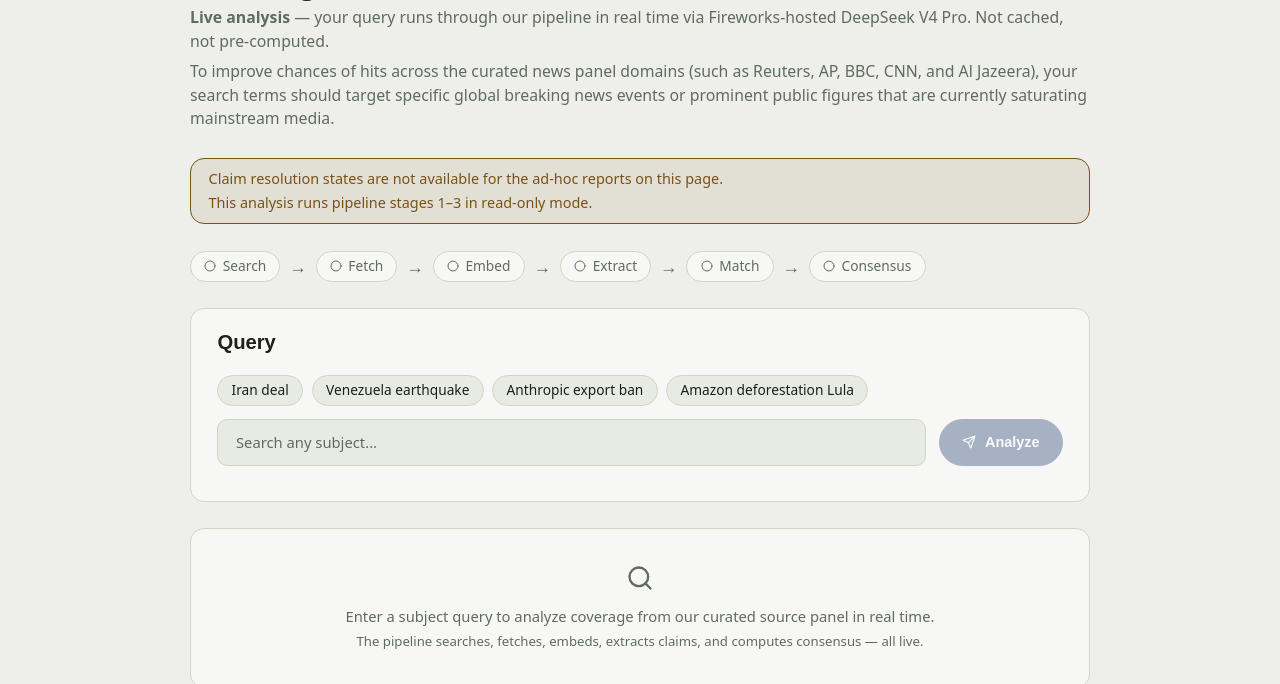
Scenario: Investigate Page › streams SSE events and renders articles + consensus + slider
Type "Iran deal" into the field with placeholder "Search any subject..." at (572, 442), box left=217, top=419, right=926, bottom=466
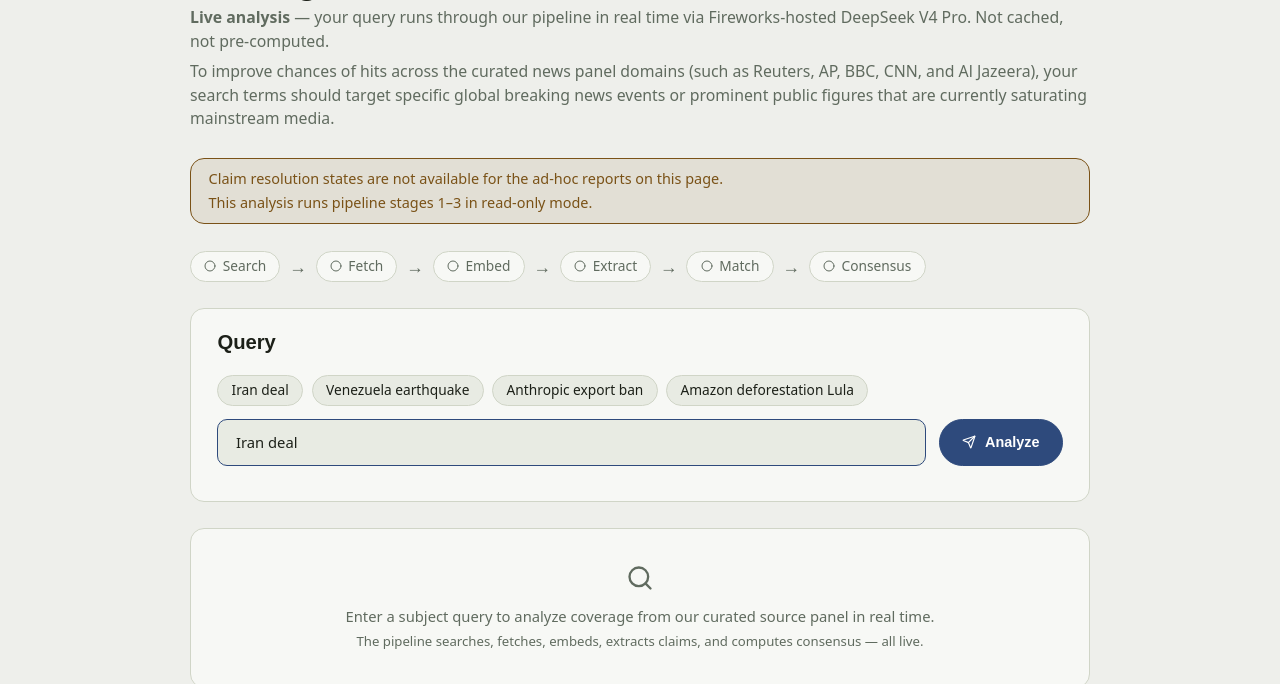
Click the button "Analyze" at (1001, 442), box left=939, top=419, right=1063, bottom=466
(page scrolled)
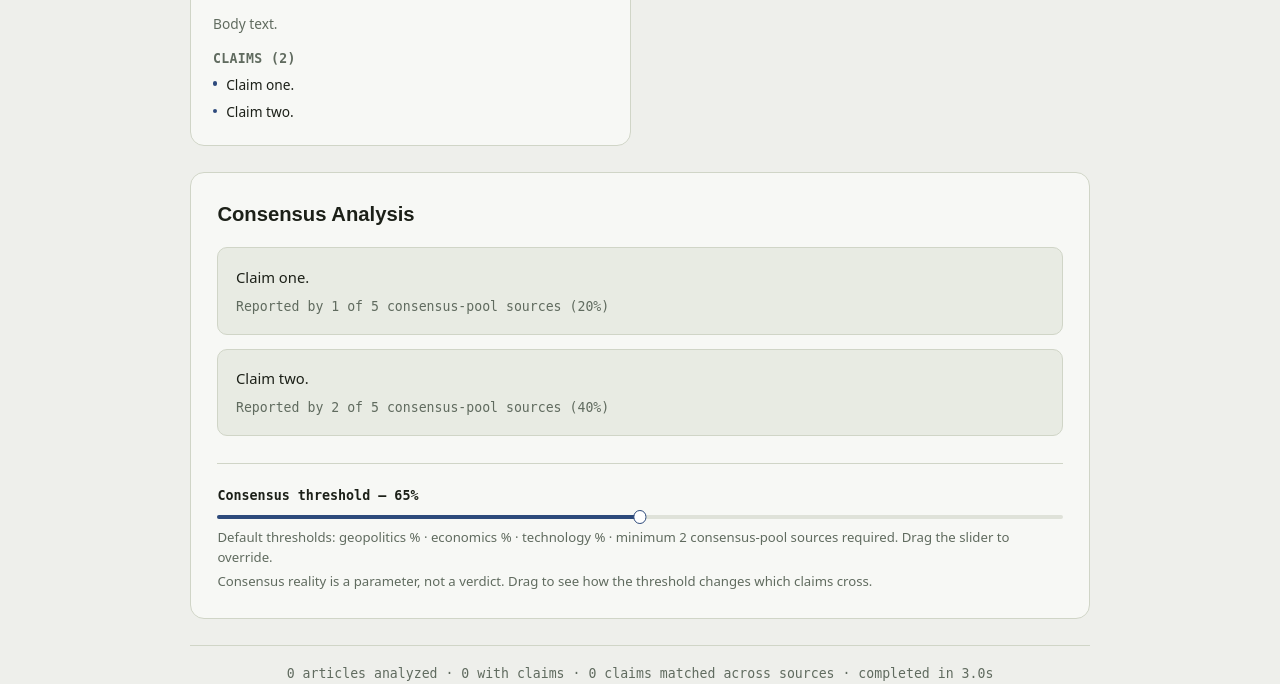
Check: the heading "Consensus Analysis" is shown, box left=217, top=204, right=415, bottom=226
Check: the text "Consensus threshold — 65%" is shown, box left=217, top=486, right=418, bottom=506
Check: the slider is shown, box left=633, top=510, right=647, bottom=524
